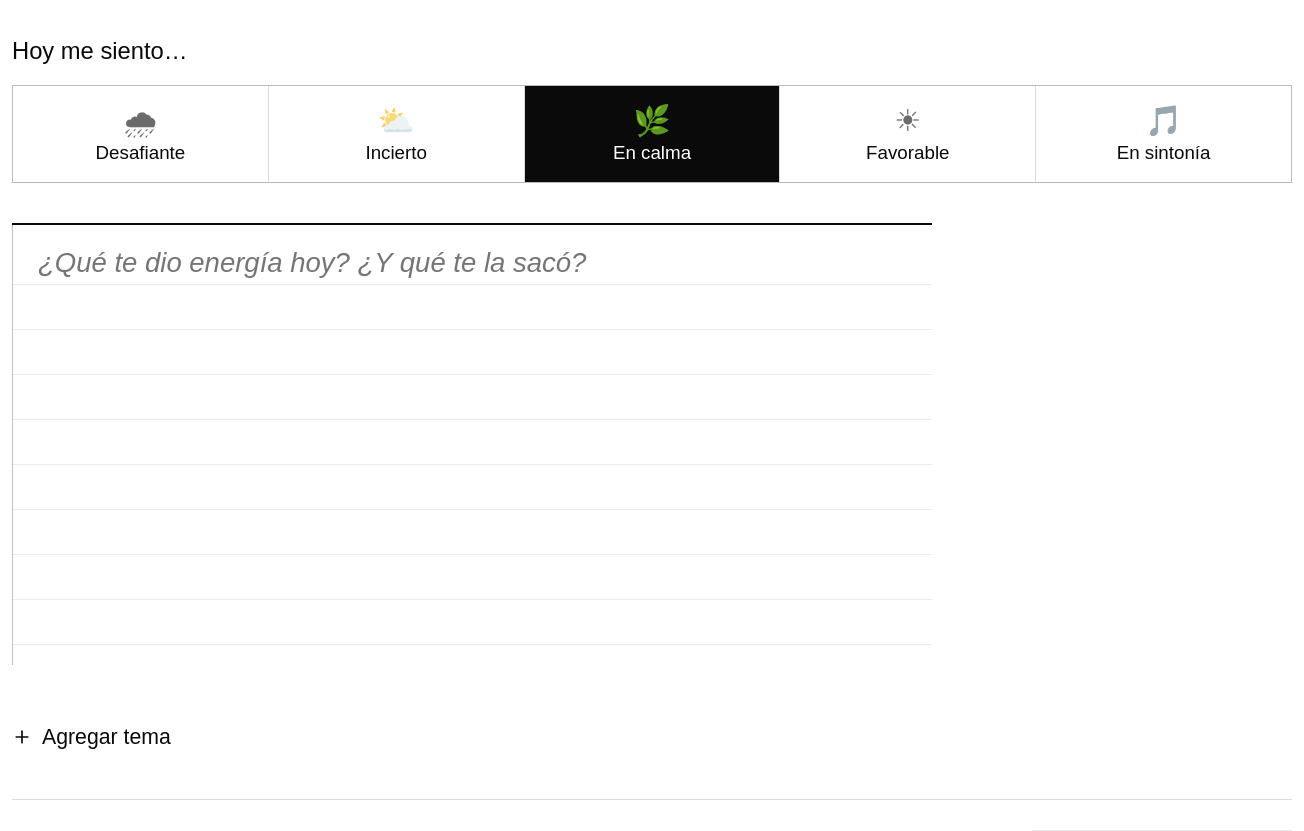
JournalEditor component (Fase 2) › oculta los tags por defecto y los despliega al hacer clic en 'Agregar tema'
(page scrolled)
expect the text "#Trabajo" is not shown: met
Note: Clic para desplegar
What coordinates should you click on to do the following:
click the button "Agregar tema"
I would click on:
 (91, 737)
Its box is 12,715 -> 171,759.
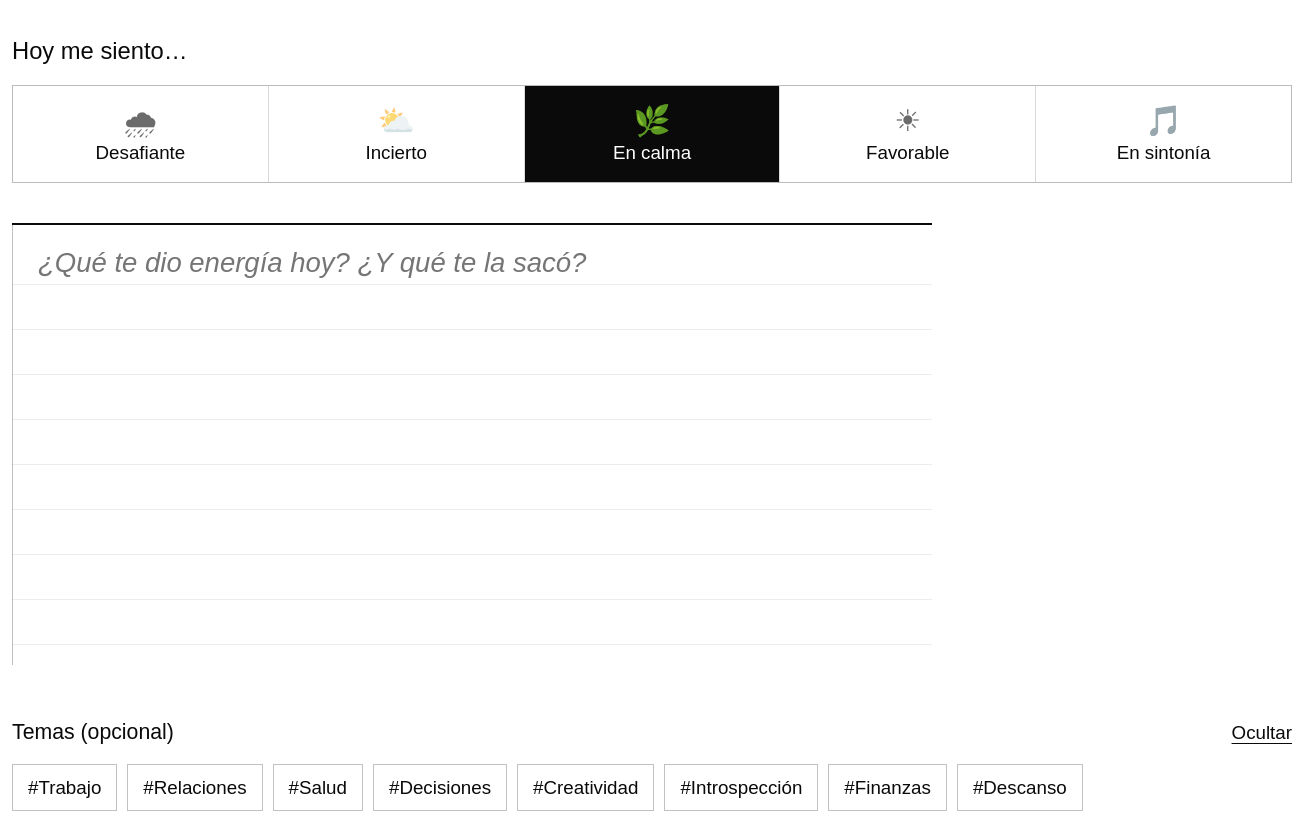
expect the button "#Trabajo" is shown: met, box 12,764 -> 117,811
expect the button "#Relaciones" is shown: met, box 127,764 -> 262,811
